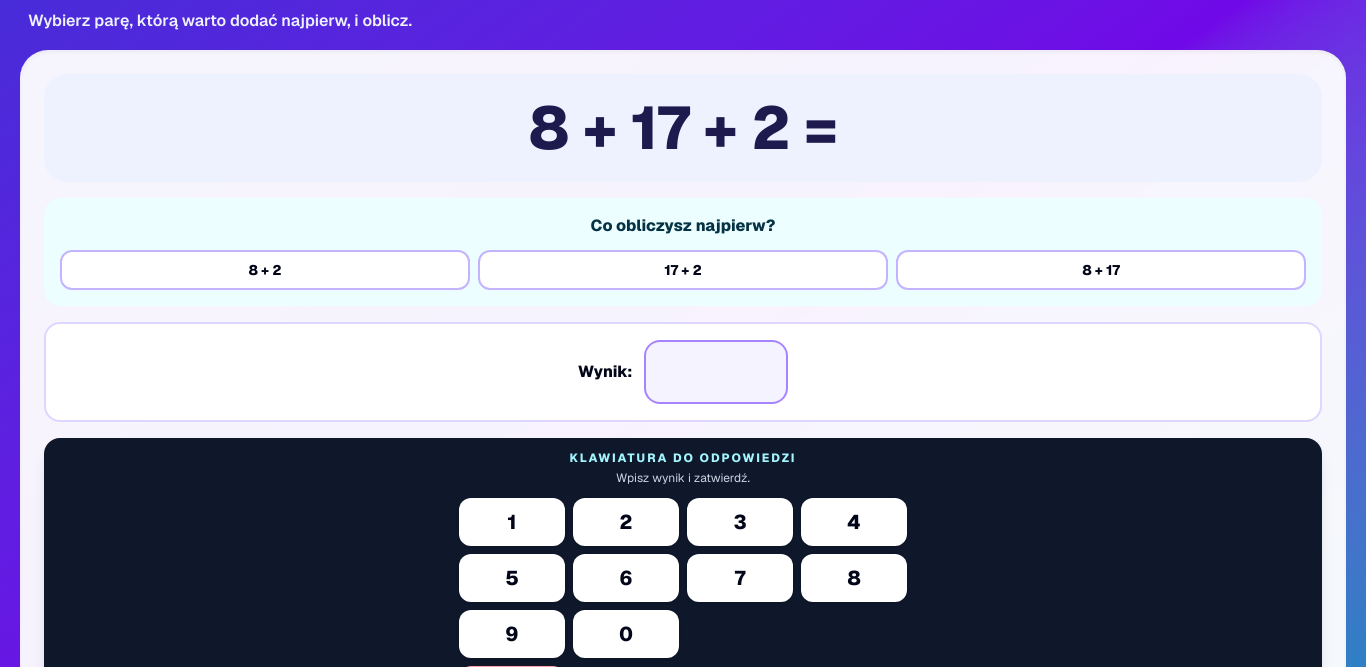
Test: Grade4AddSubLessonLab › wymaga wyboru wygodnej pary i poprawnego wyniku
The width and height of the screenshot is (1366, 667).
Click the button "8 + 2": (265, 270) [60,250,470,290]
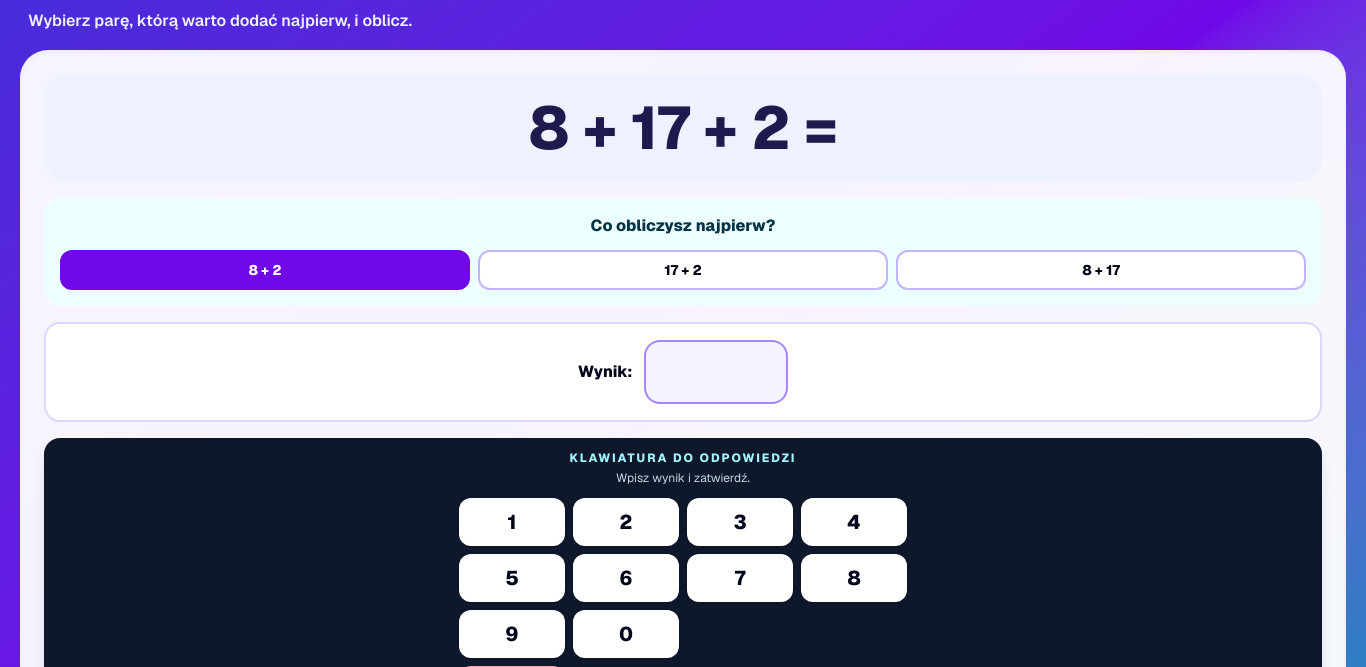
Click the button "2": (626, 522) [573,498,679,546]
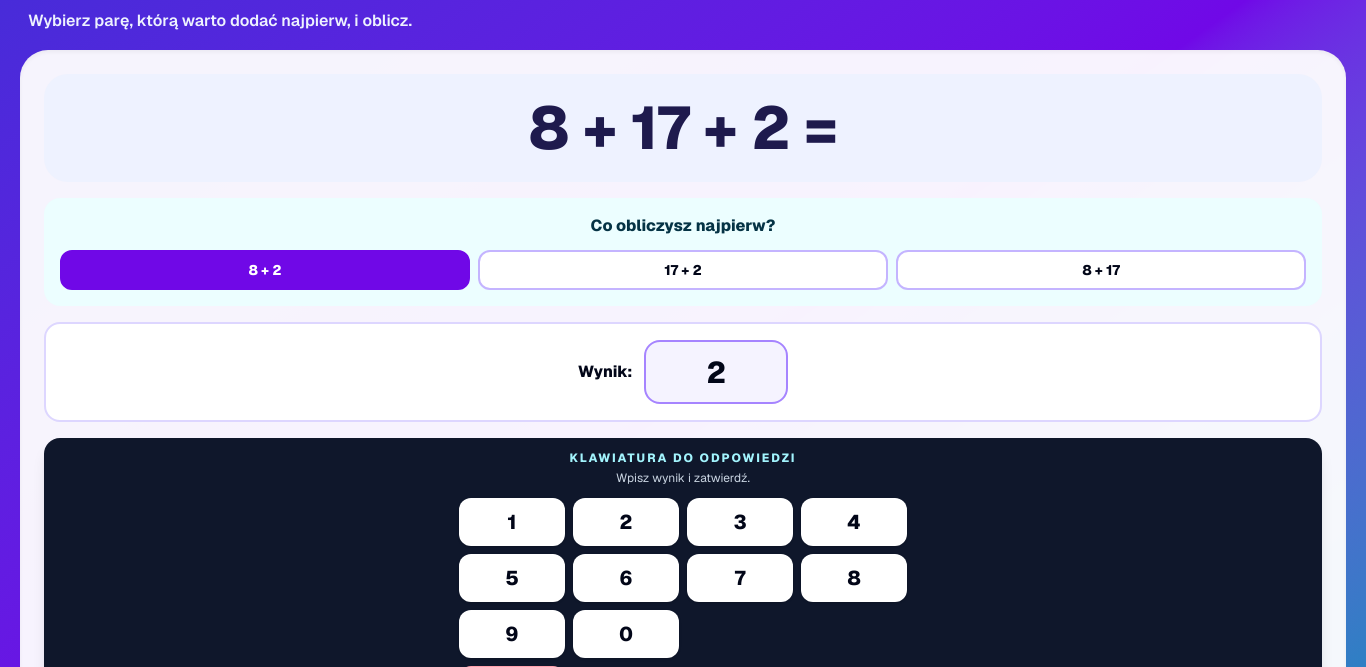
Click the button "7": (740, 578) [687,554,793,602]
(page scrolled)
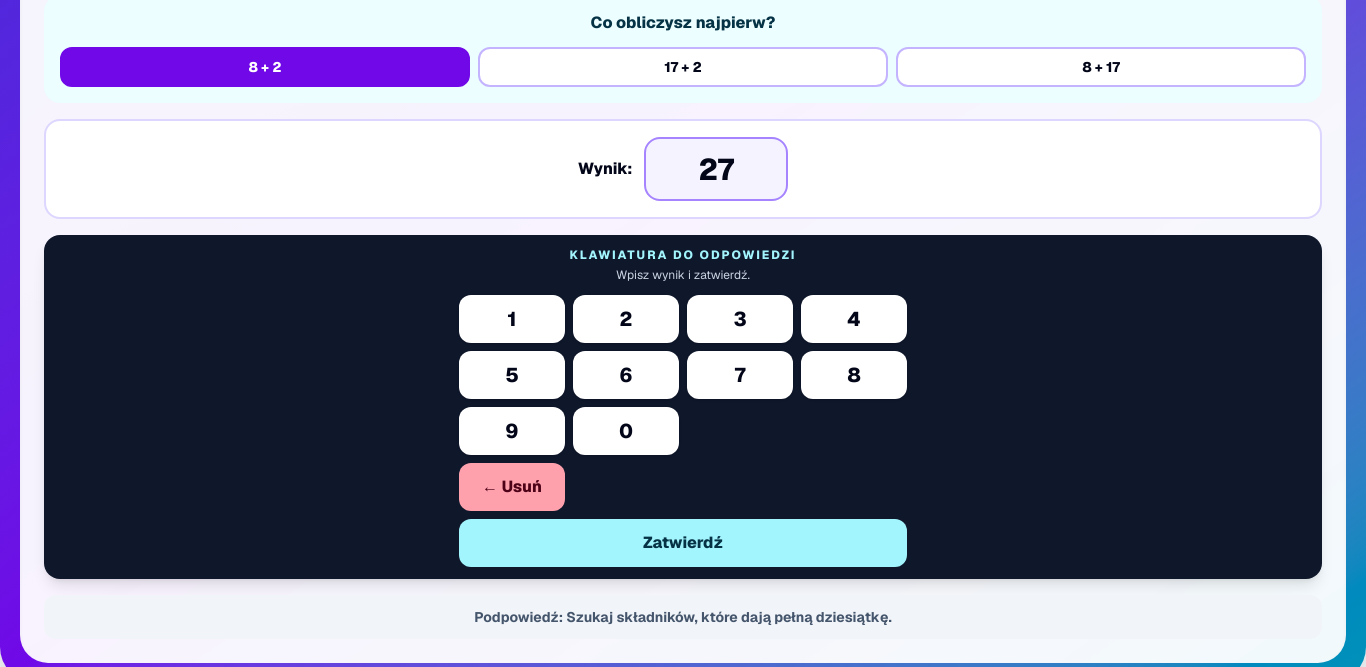
Click the button "Zatwierdź": (683, 543) [459,519,907,567]
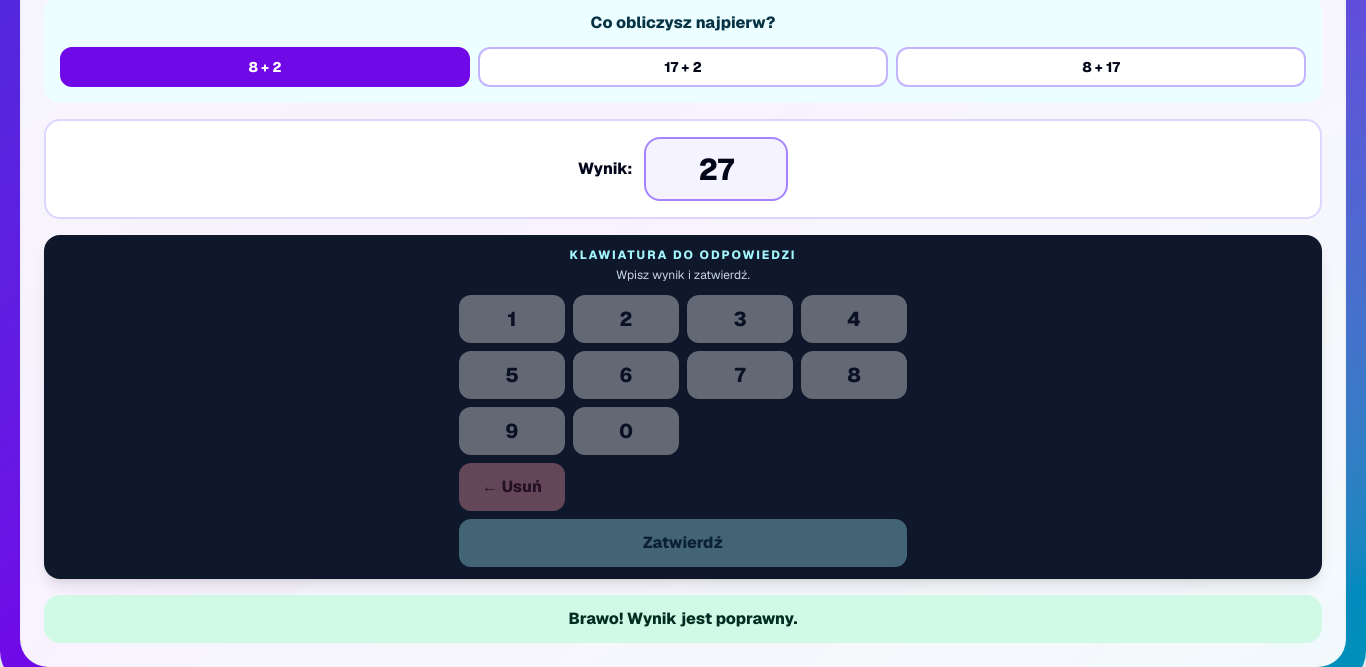
expect the message shows "Brawo": met, box [569,608,797,629]
